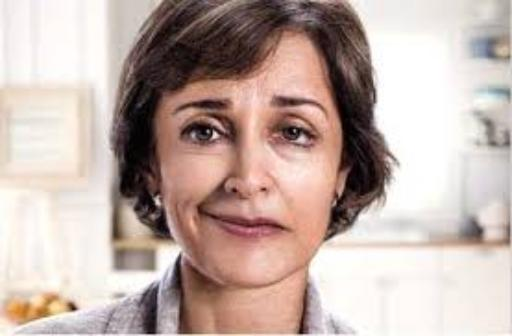left_eye: (272, 126, 321, 147)
left_lip_corner: (276, 223, 296, 238)
right_eye: (180, 123, 232, 146)
right_lip_corner: (200, 209, 225, 225)
